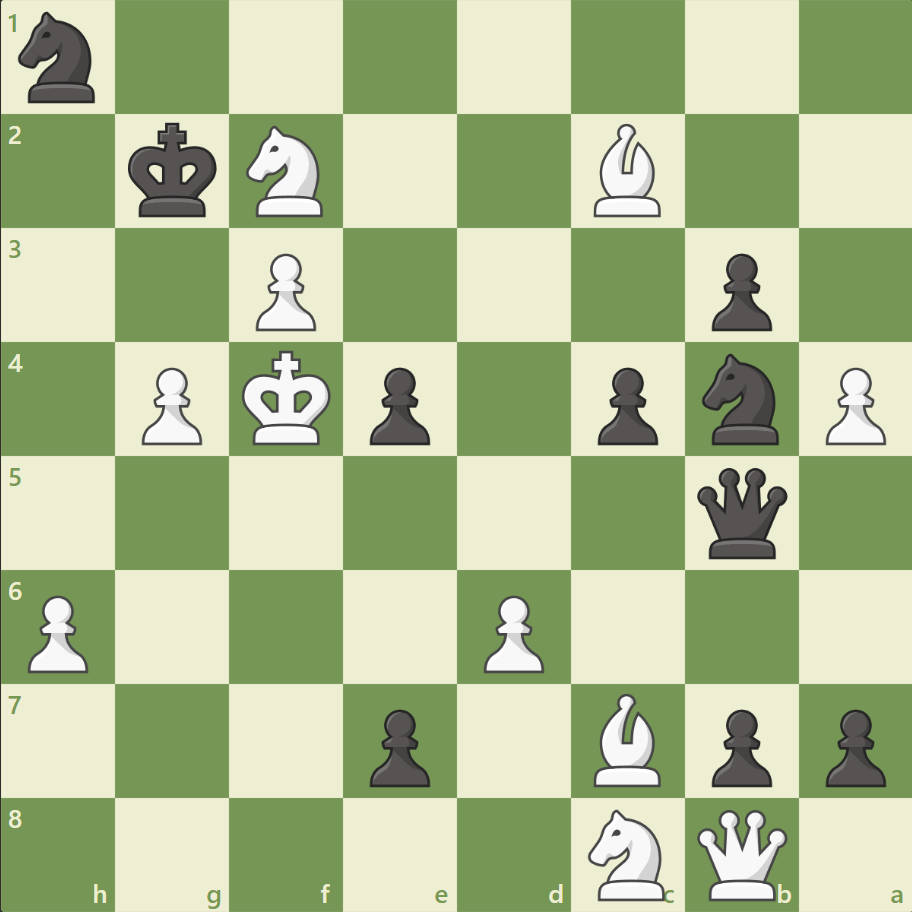B: (585, 687, 669, 790), (585, 120, 669, 222)
K: (238, 344, 338, 452)
N: (579, 802, 676, 904), (238, 121, 335, 223)
P: (474, 586, 549, 677), (20, 586, 95, 677), (133, 359, 208, 450), (247, 246, 322, 337), (815, 359, 889, 450)
Q: (691, 804, 790, 903)
k: (124, 117, 224, 225)
n: (11, 7, 108, 110), (692, 348, 789, 450)
p: (701, 700, 776, 791), (701, 246, 776, 337), (815, 700, 889, 791), (361, 700, 435, 791), (588, 359, 662, 450), (361, 359, 435, 450)
q: (691, 463, 790, 562)
